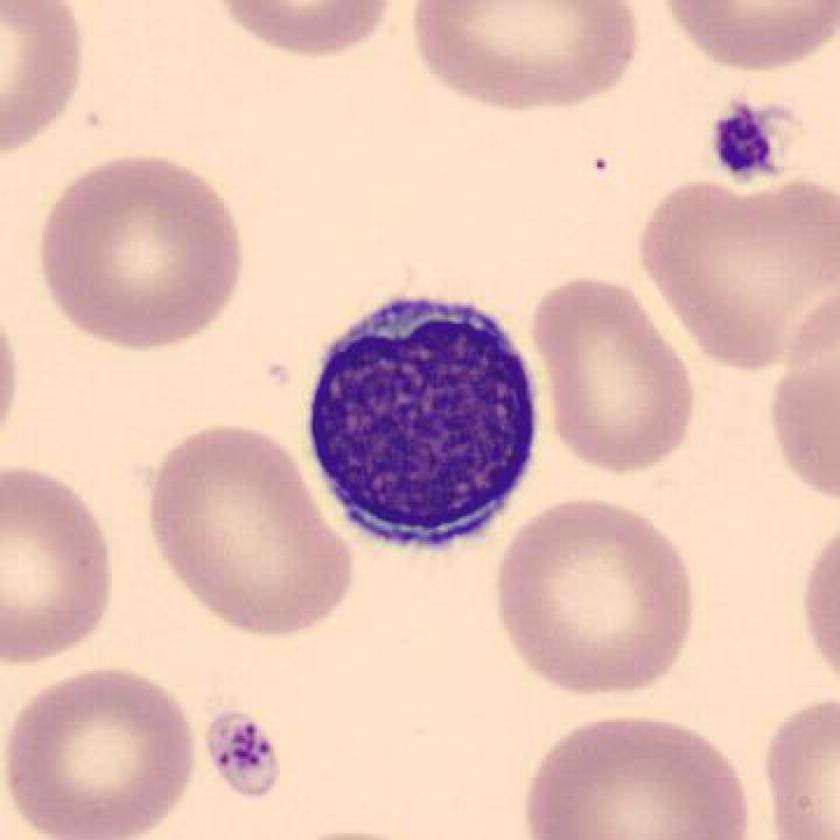lymphocyte: (286, 276, 554, 561)
platelets: (706, 99, 800, 188), (205, 704, 280, 807)
